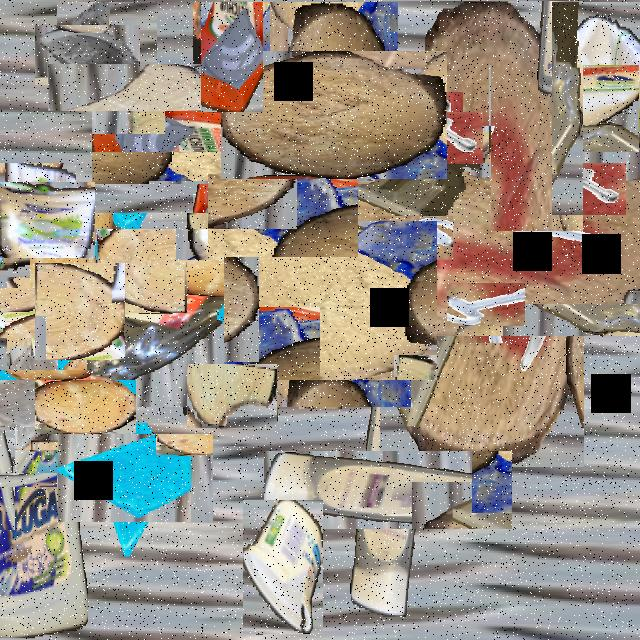glass: (74, 417, 196, 539), (225, 157, 342, 273), (45, 13, 128, 97), (201, 2, 263, 112), (0, 357, 79, 438), (240, 93, 318, 170), (0, 171, 11, 270)
metal: (401, 102, 473, 175), (456, 274, 516, 334), (0, 451, 36, 508)
plastic: (37, 221, 231, 415), (142, 53, 324, 235), (0, 301, 87, 638), (306, 409, 470, 572), (520, 33, 640, 183), (491, 43, 583, 231), (243, 500, 323, 634), (0, 173, 85, 268)
wood: (314, 67, 640, 402), (238, 207, 424, 394), (245, 27, 423, 204), (78, 32, 188, 142), (33, 264, 127, 358), (46, 368, 124, 446), (187, 364, 277, 428), (0, 273, 71, 352)
